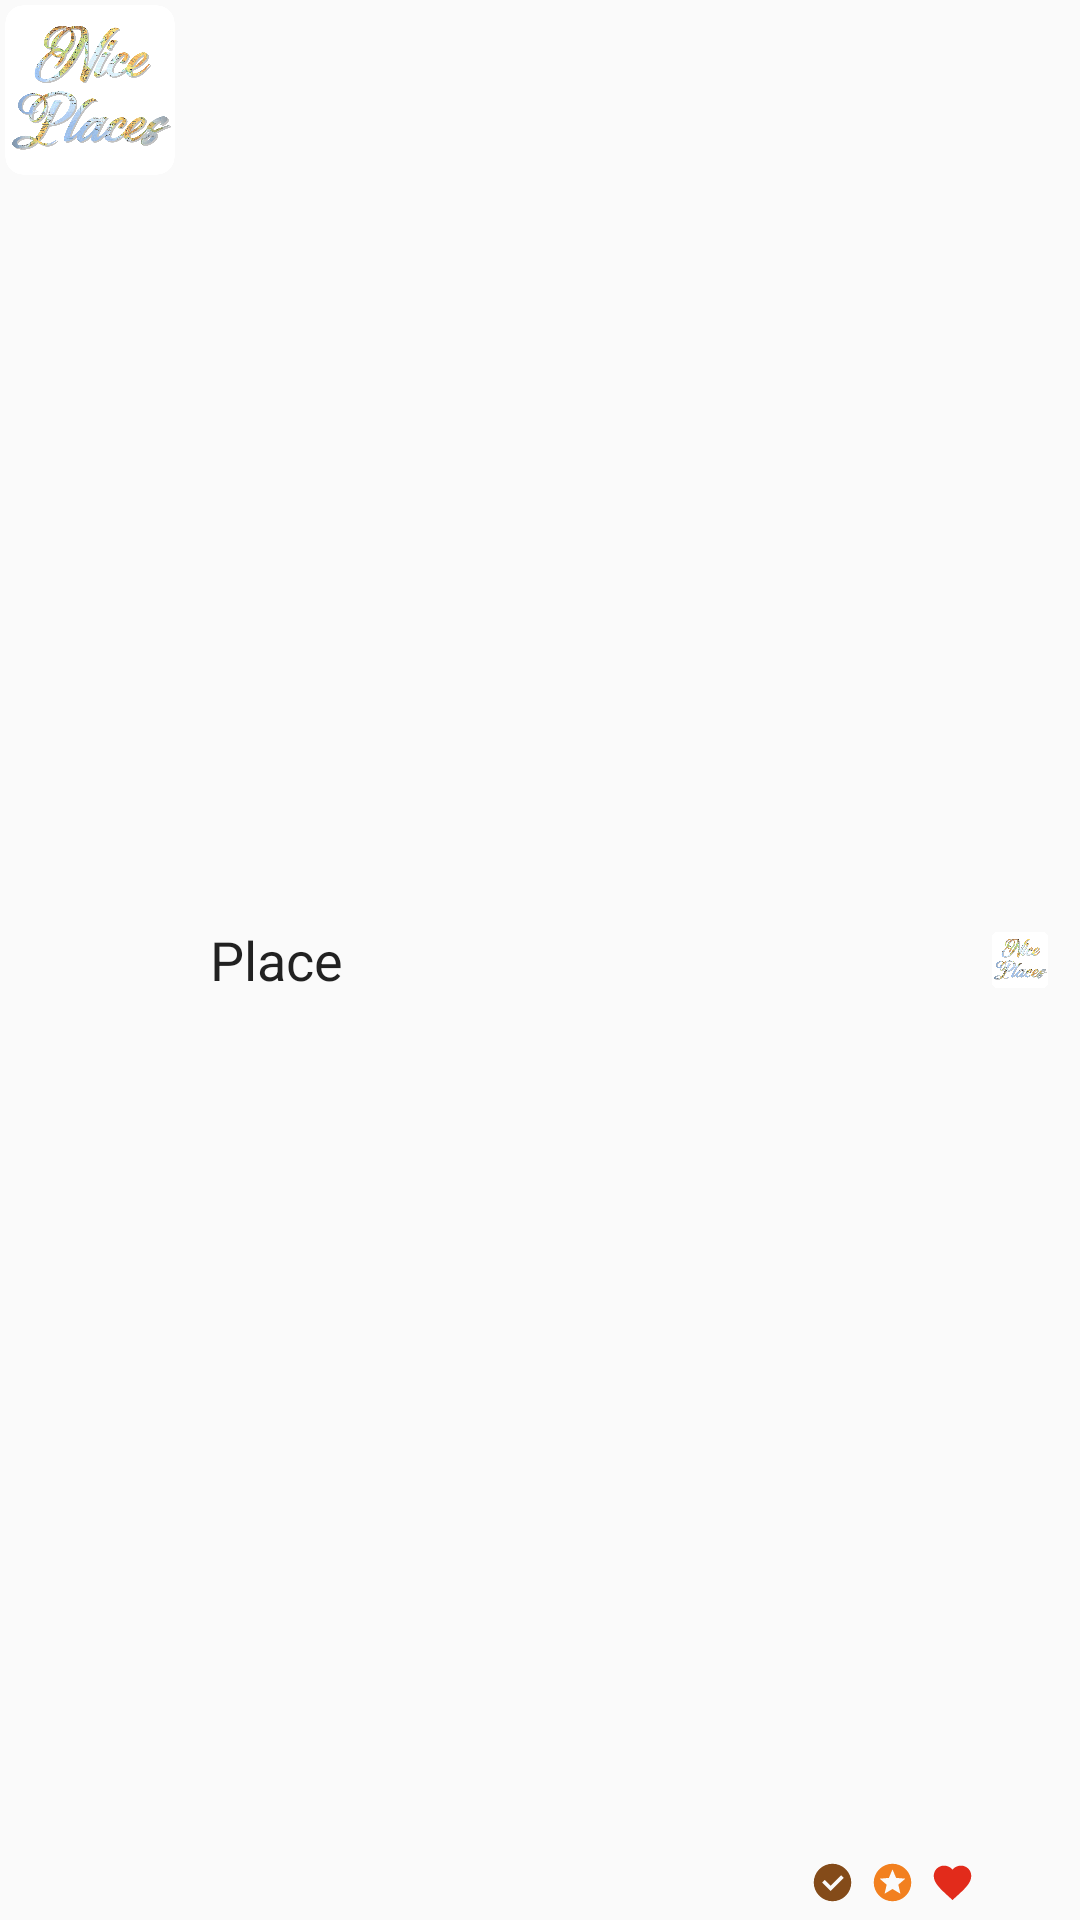

Screen size 1080×1920. Icon name, then its center in pixels as (x,y):
check: (832,1882)
heart: (952,1882)
wish: (892,1882)
